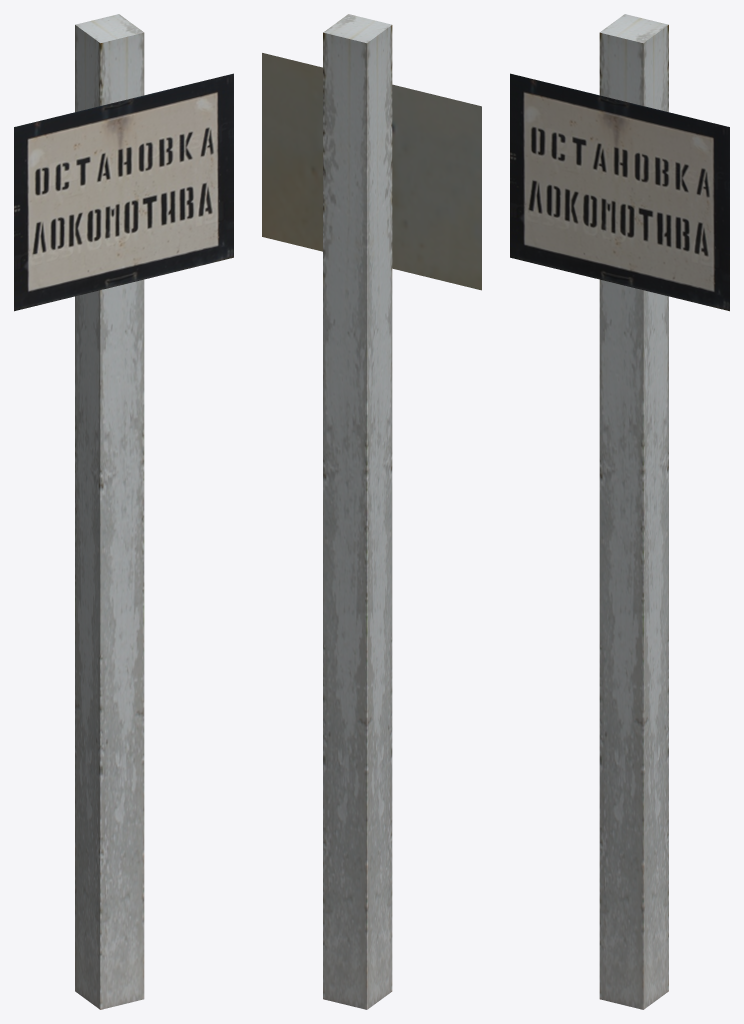
Rendered from Znak_OstLoc.gltf.
3 views of the same model, side by side, from view 1: azimuth 30°, elevation 25°; view 2: azimuth 150°, elevation 25°; view 3: azimuth 330°, elevation 25° (orthographic).
Bounding box in the file's own units: 0.5 × 2.1 × 0.106.
Materials: 1 (1 with a texture image).
